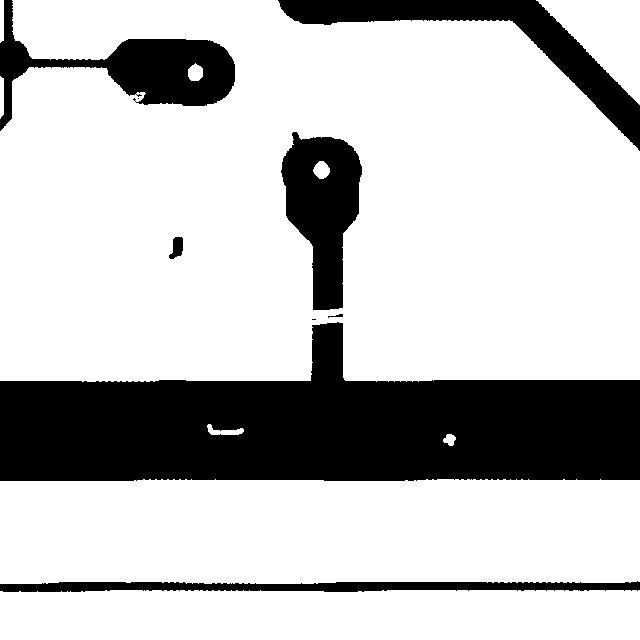copper: (159, 227, 192, 268)
mousebite: (114, 82, 155, 111)
open: (288, 298, 358, 334)
pin-hole: (197, 414, 253, 444), (433, 424, 465, 455)
spur: (282, 122, 311, 160)
